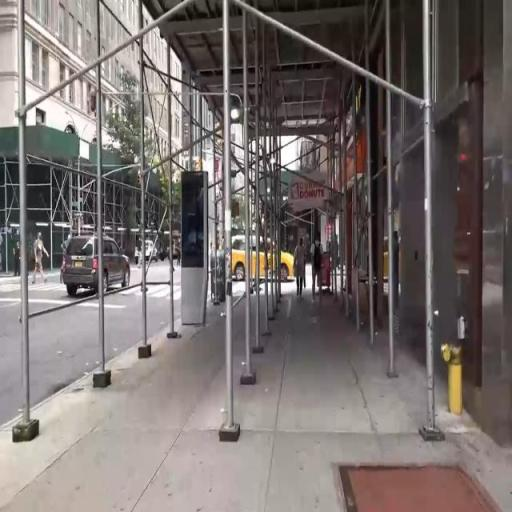person: (312, 233, 330, 304), (289, 237, 307, 295), (36, 237, 45, 287)
